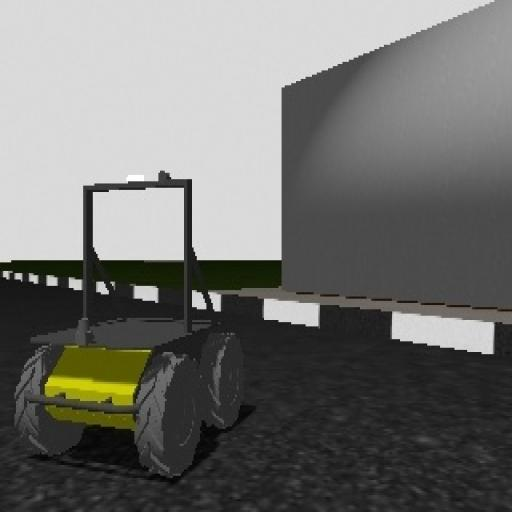huskya200: (17, 167, 248, 481)
